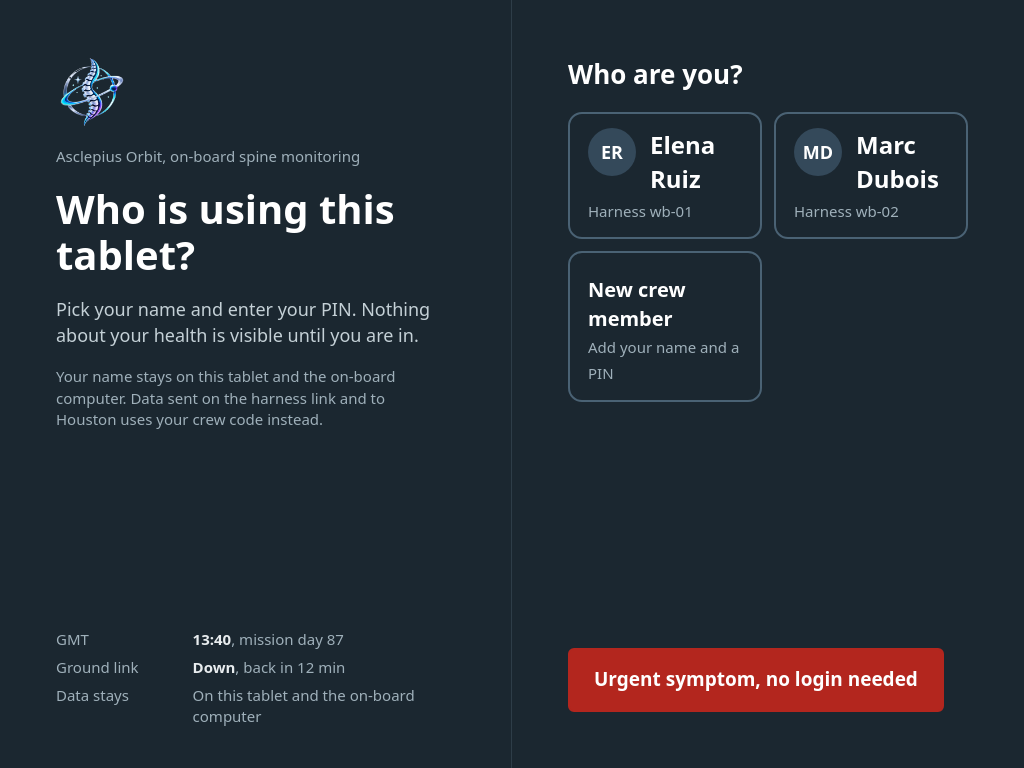
LoginView › shows the lockout with minutes rounded up
This screenshot has width=1024, height=768.
Click the button "ER Elena Ruiz Harness wb-01". click: (665, 176)
box: [568, 112, 762, 239]
(page scrolled)
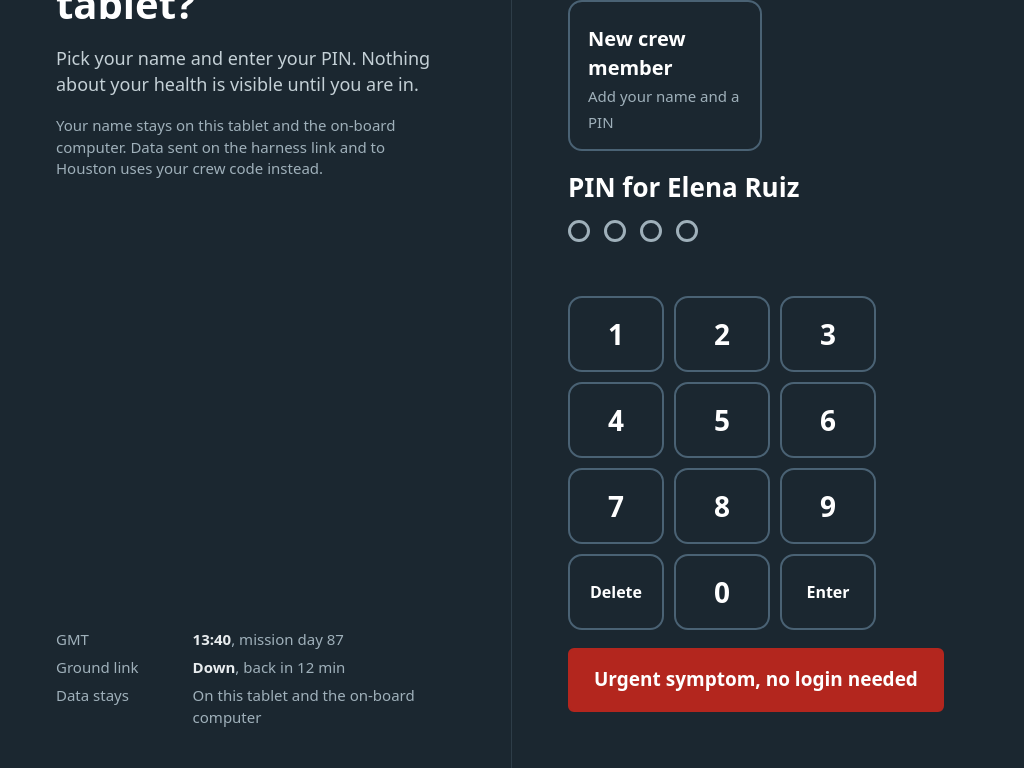
Click the button "0". click: (722, 592)
box: [674, 554, 770, 630]
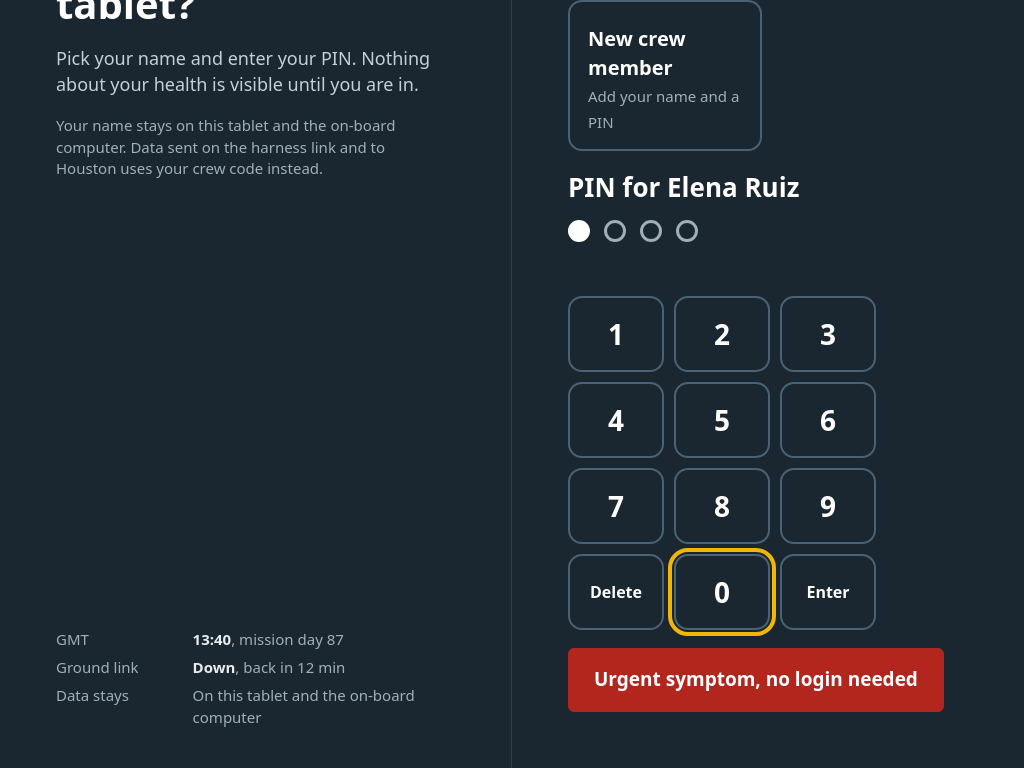
Click the button "0". click: (722, 592)
box: [674, 554, 770, 630]
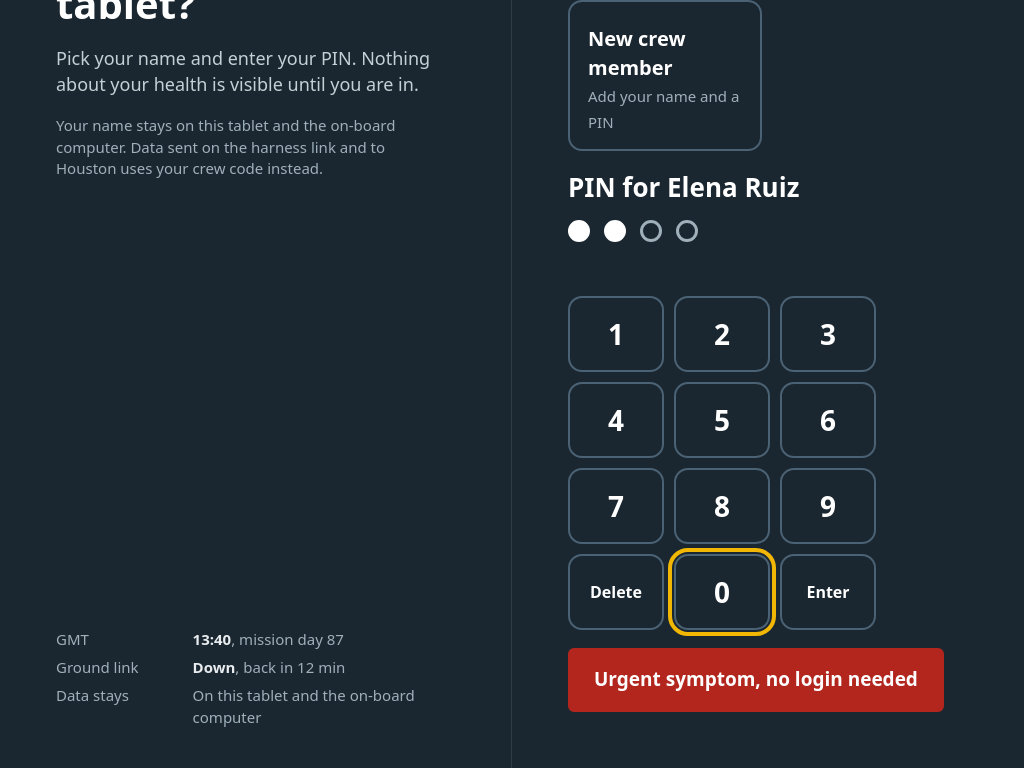
Click the button "0". click: (722, 592)
box: [674, 554, 770, 630]
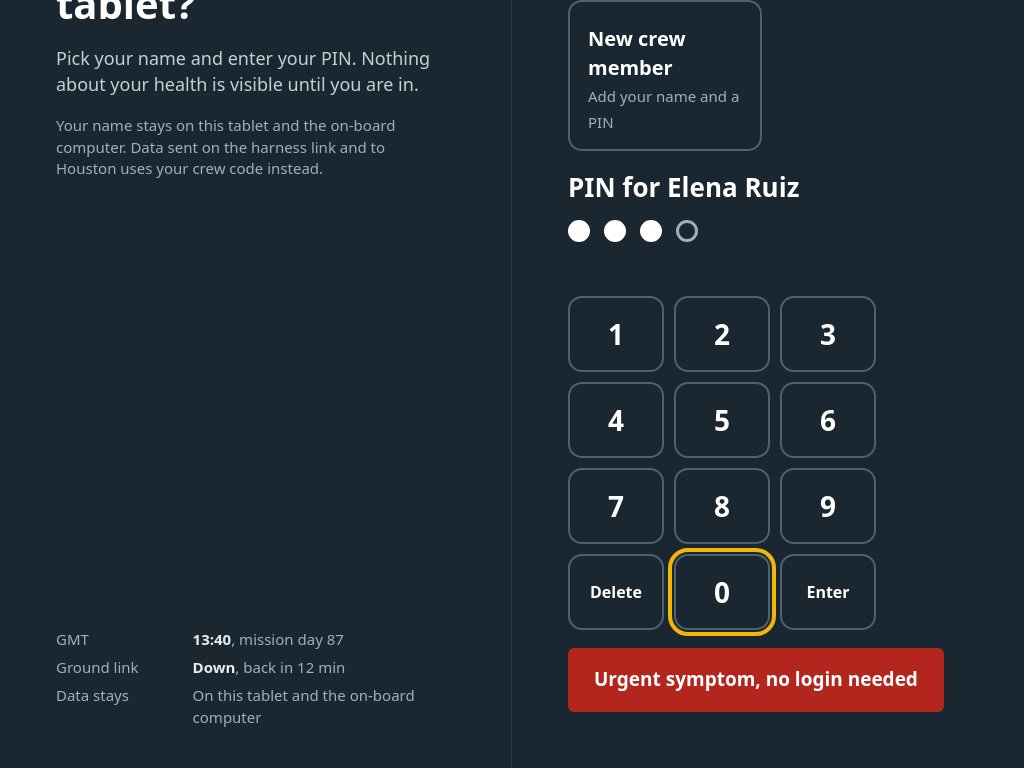
Click the button "0". click: (722, 592)
box: [674, 554, 770, 630]
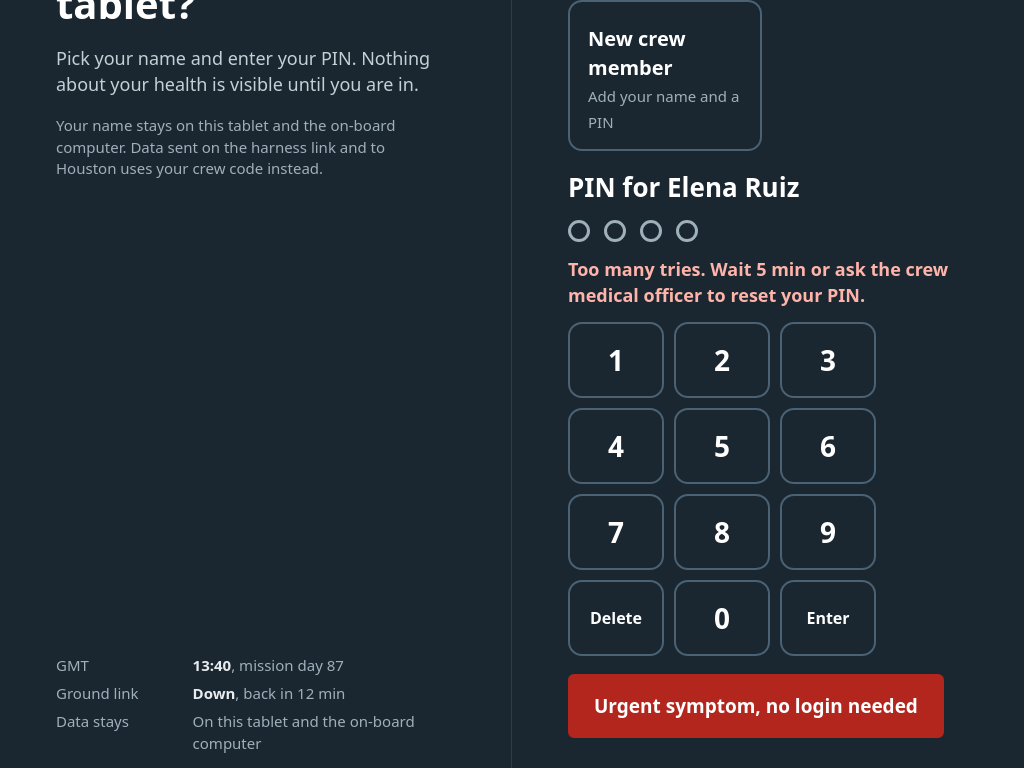
Check: the text "Too many tries. Wait 5 min or ask the crew medical officer to reset your PIN." is shown, box [568, 256, 968, 308]
